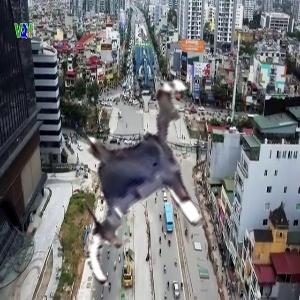drone: (34, 74, 246, 286)
